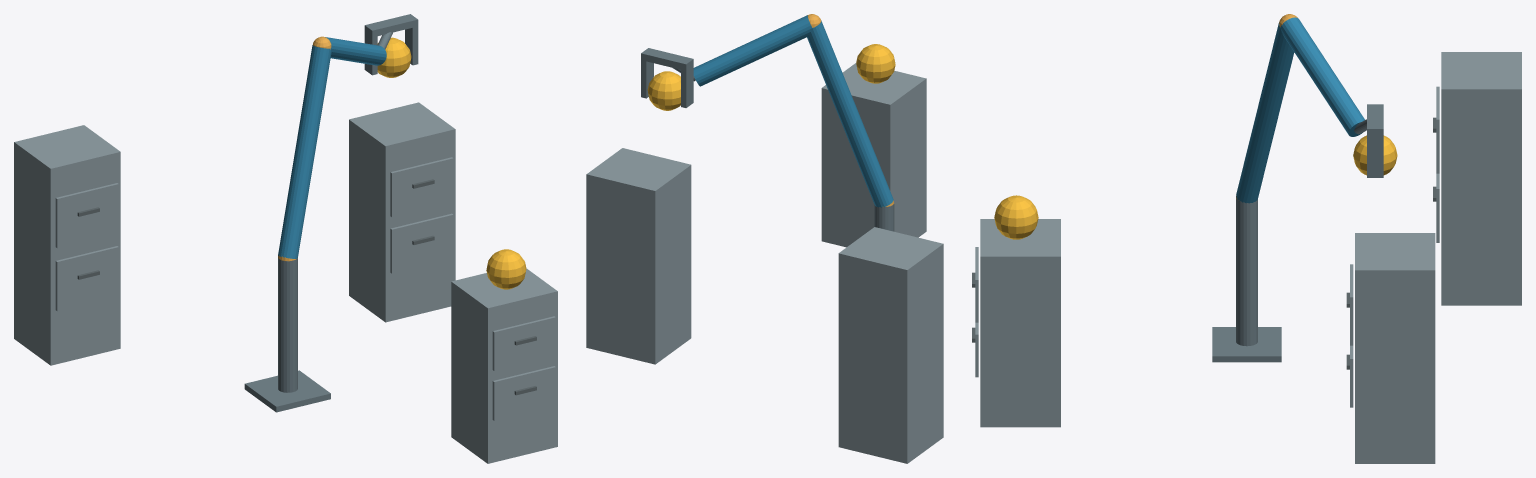
3 renders of one model, left to right at view 1: azimuth 30°, elevation 25°; view 2: azimuth 150°, elevation 25°; view 3: azimuth 270°, elevation 25°, orthographic. The views are drawn at different scales.
Visible parts, largest first — view 1: cabinet_3 body, cabinet_2 body, cabinet_1 body, moving link 1, cabinet_3 drawer front, cabinet_3 drawer front.001, cabinet_2 drawer front.001, cabinet_2 drawer front, fixed post, cabinet_1 drawer front.001, cabinet_1 drawer front, pedestal (+4 smaller); view 2: cabinet_3 body, cabinet_2 body, cabinet_1 body, moving link 1, moving link 2, released ball_1, ball ball_2, gripper bridge, fixed post, gripper finger -1, gripper finger 1; view 3: cabinet_3 body, cabinet_2 body, cabinet_1 body, moving link 1, fixed post, moving link 2, pedestal, released ball_1, ball ball_2, gripper finger 1, gripper bridge.
Part boxes in pixels (x1,y1,x2,y2): cabinet_3 body: [14, 125, 120, 365]; cabinet_2 body: [349, 102, 455, 322]; cabinet_1 body: [451, 268, 557, 463]; moving link 1: [278, 45, 331, 258]; cabinet_3 drawer front: [55, 246, 118, 311]; cabinet_3 drawer front.001: [55, 183, 118, 248]; cabinet_2 drawer front.001: [390, 157, 453, 217]; cabinet_2 drawer front: [390, 213, 453, 273]; fixed post: [278, 258, 297, 392]; cabinet_1 drawer front.001: [492, 316, 555, 370]; cabinet_1 drawer front: [492, 366, 555, 420]; pedestal: [244, 370, 330, 412]; cabinet_3 body: [838, 227, 943, 463]; cabinet_2 body: [586, 148, 691, 364]; cabinet_1 body: [821, 63, 926, 247]; moving link 1: [807, 20, 893, 207]; moving link 2: [693, 15, 812, 86]; released ball_1: [856, 44, 895, 83]; ball ball_2: [647, 71, 680, 110]; gripper bridge: [641, 48, 693, 70]; fixed post: [874, 202, 894, 231]; gripper finger -1: [681, 66, 693, 107]; gripper finger 1: [641, 60, 653, 98]; cabinet_3 body: [1441, 52, 1521, 305]; cabinet_2 body: [1355, 233, 1435, 463]; cabinet_1 body: [980, 219, 1060, 427]; moving link 1: [1236, 22, 1294, 203]; fixed post: [1236, 198, 1257, 346]; moving link 2: [1280, 17, 1364, 136]; pedestal: [1212, 327, 1281, 362]; released ball_1: [994, 195, 1038, 239]; ball ball_2: [1353, 135, 1397, 175]; gripper finger 1: [1367, 136, 1383, 177]; gripper bridge: [1367, 104, 1383, 136].
Bounding box in the file's own units: 1.67 × 1.44 × 1.98.
